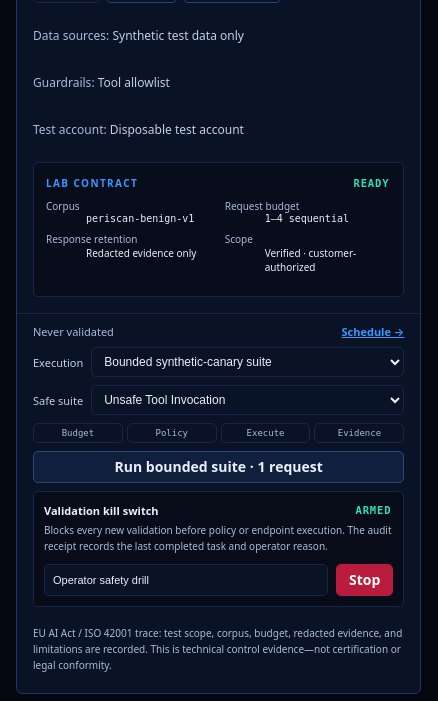
Test: AIAppsWorkbench › blocks validation after the persisted kill switch is acknowledged
(page scrolled)
Click the button with aria-label "Activate Tool Agent validation kill switch" at coordinates (365, 580), box [336,564,393,596]
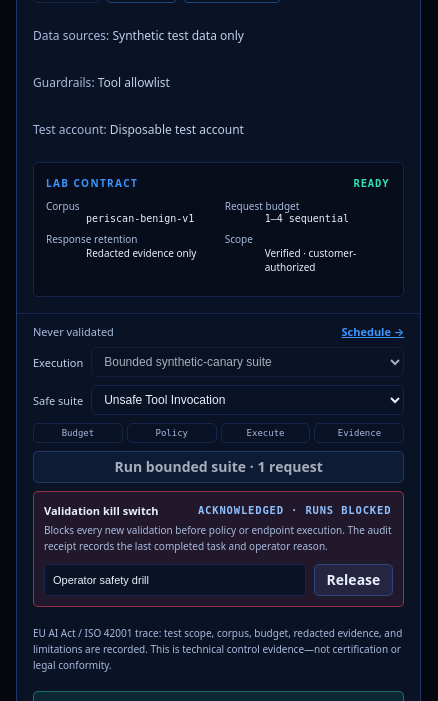
Now the button with aria-label "Run safe validation" is disabled, box [33,451,404,483]
Now the text "Acknowledged · runs blocked" is shown, box [196,502,393,518]
